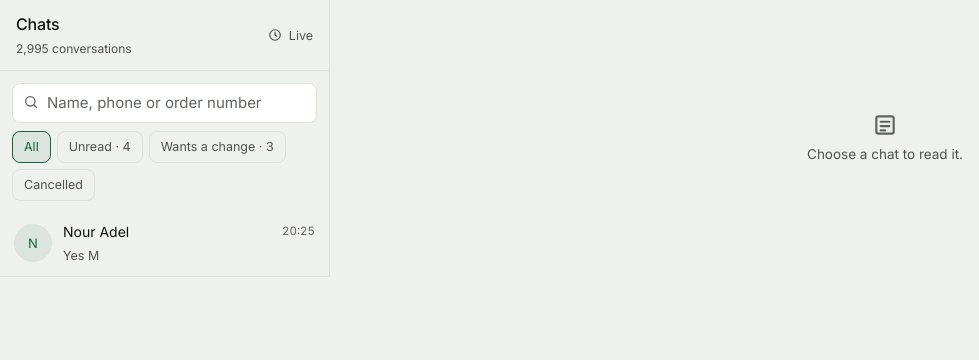
Test case: the list of chats › searches by name, phone or order number, and says when nothing matches
The image size is (979, 360).
Expected: the link "N Nour Adel 20:25 Yes M" is shown, [0,211,329,277]
Type "#99999" into the search field named "Search chats" at (164, 103), box [12,83,317,123]
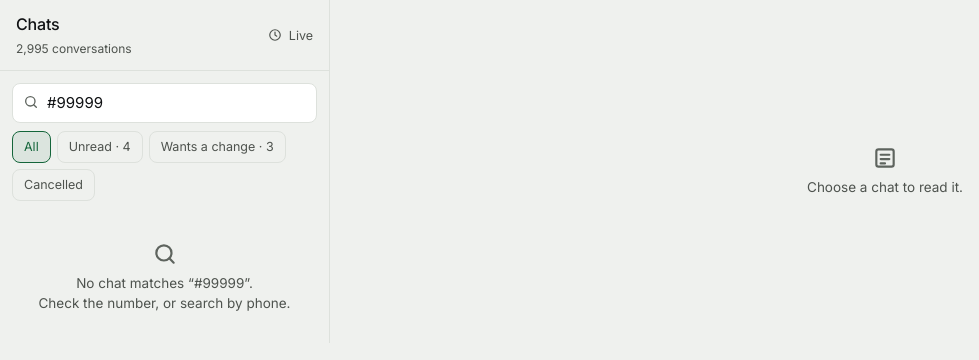
Now the text "No chat matches “#99999”." is shown, box [38,273,290,313]
Now the text "Check the number, or search by phone." is shown, box [38,295,290,311]
